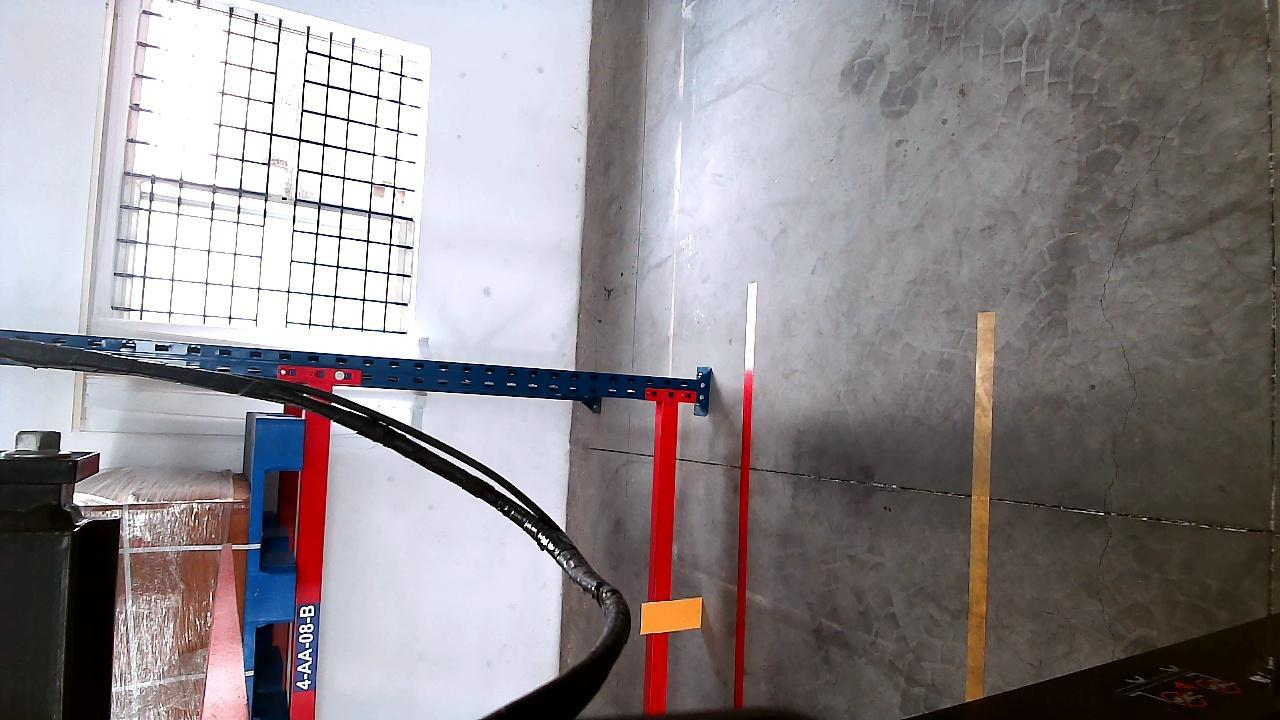red_line: (732, 282, 759, 716)
yellow_line: (967, 307, 995, 701)
